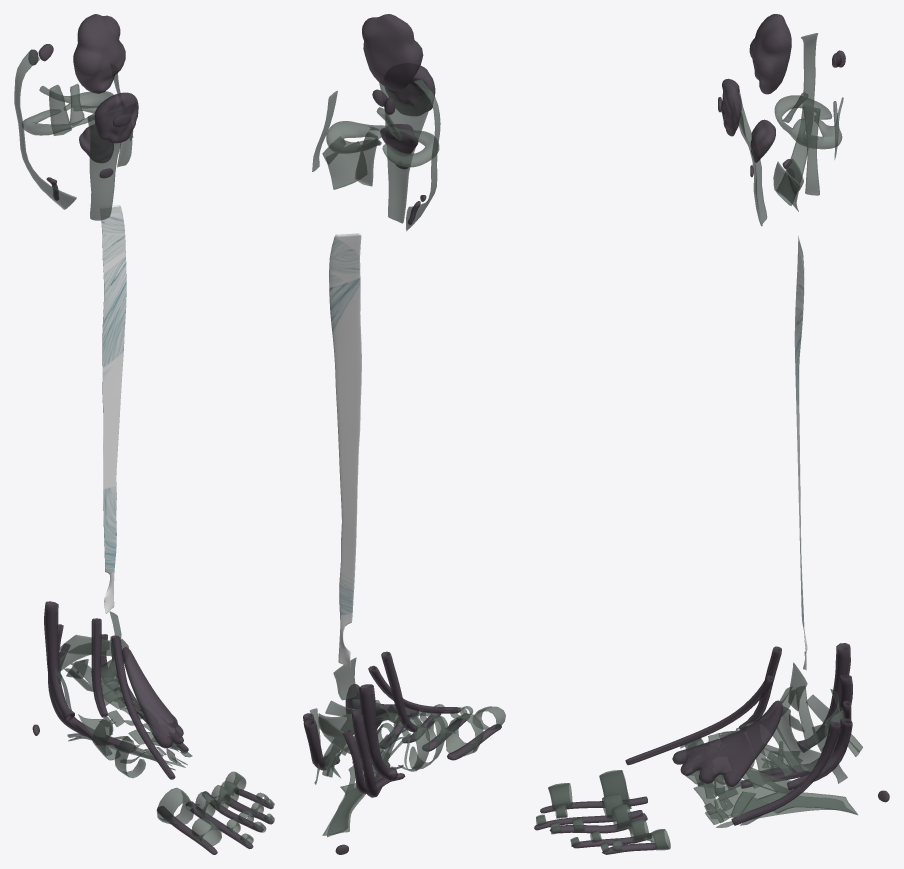
The model's file is Connective.Lower_limb.Interosseous_membrane_lower_limb_R.001.obj.
3 renders of one model, left to right at view 1: azimuth 30°, elevation 25°; view 2: azimuth 150°, elevation 25°; view 3: azimuth 270°, elevation 25°, orthographic. The views are drawn at different scales.
Visible parts, largest first — view 1: Connective:Lower_limb:Interosseous_membrane_lower_limb_R.001_Low; view 2: Connective:Lower_limb:Interosseous_membrane_lower_limb_R.001_Low; view 3: Connective:Lower_limb:Interosseous_membrane_lower_limb_R.001_Low.
Boxes of the visible parts, bbox=[...] form: Connective:Lower_limb:Interosseous_membrane_lower_limb_R.001_Low: bbox=[14, 14, 274, 854]; Connective:Lower_limb:Interosseous_membrane_lower_limb_R.001_Low: bbox=[303, 14, 505, 854]; Connective:Lower_limb:Interosseous_membrane_lower_limb_R.001_Low: bbox=[534, 14, 889, 854].
Bounding box in the file's own units: 0.6732 × 3.06 × 1.24.
